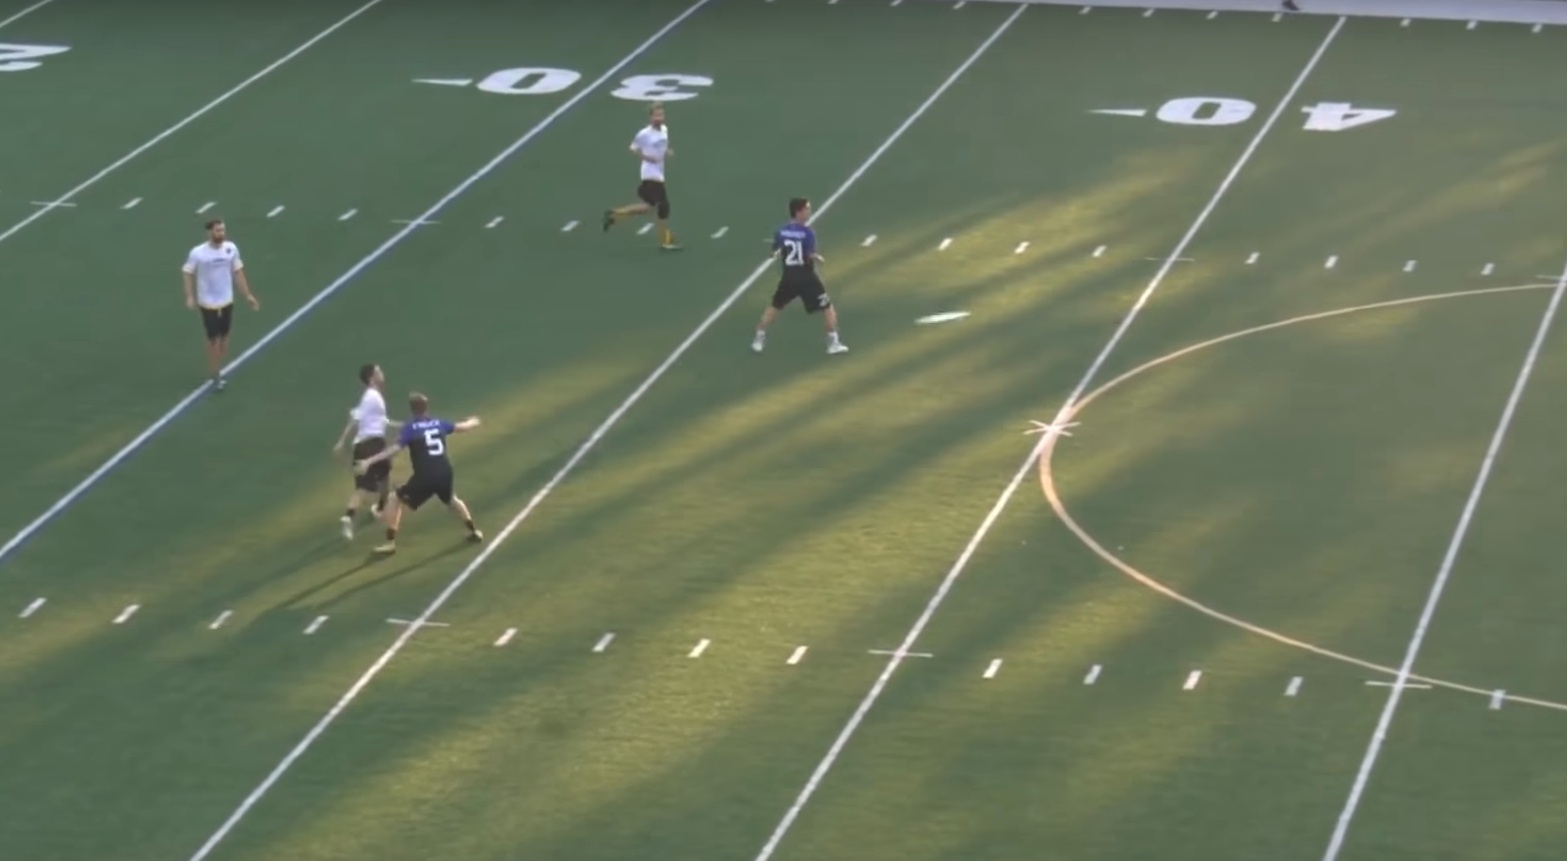frisbee: (916, 310, 971, 326)
